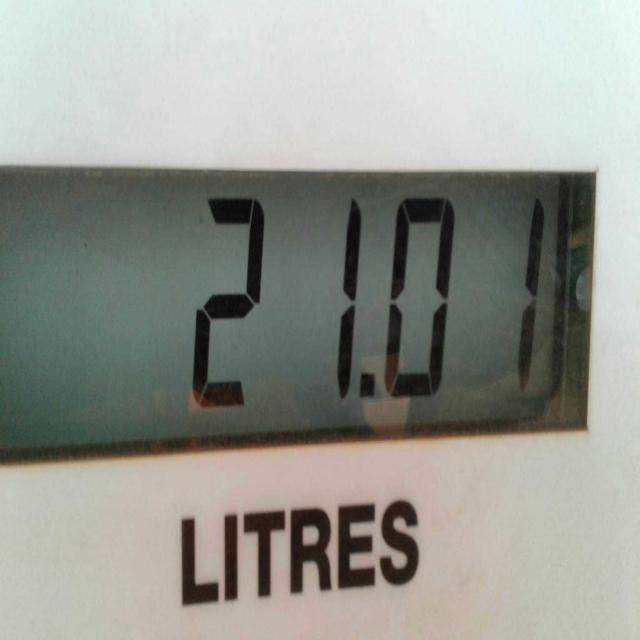.: (357, 363, 379, 402)
0: (378, 189, 461, 408)
1: (492, 180, 558, 399), (308, 179, 371, 405)
2: (176, 183, 289, 421)
